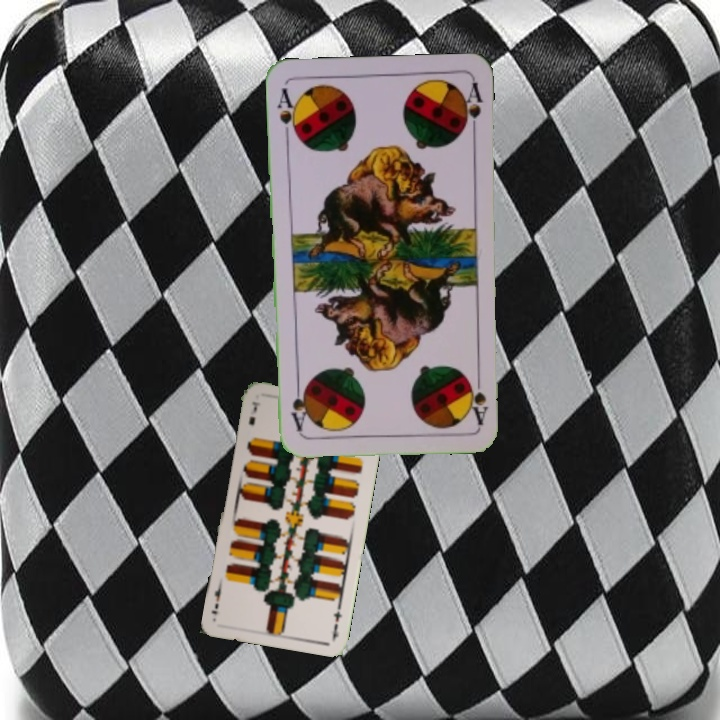E7: (329, 601, 344, 641), (245, 398, 261, 428)
SA: (273, 83, 301, 143), (467, 368, 490, 427)
